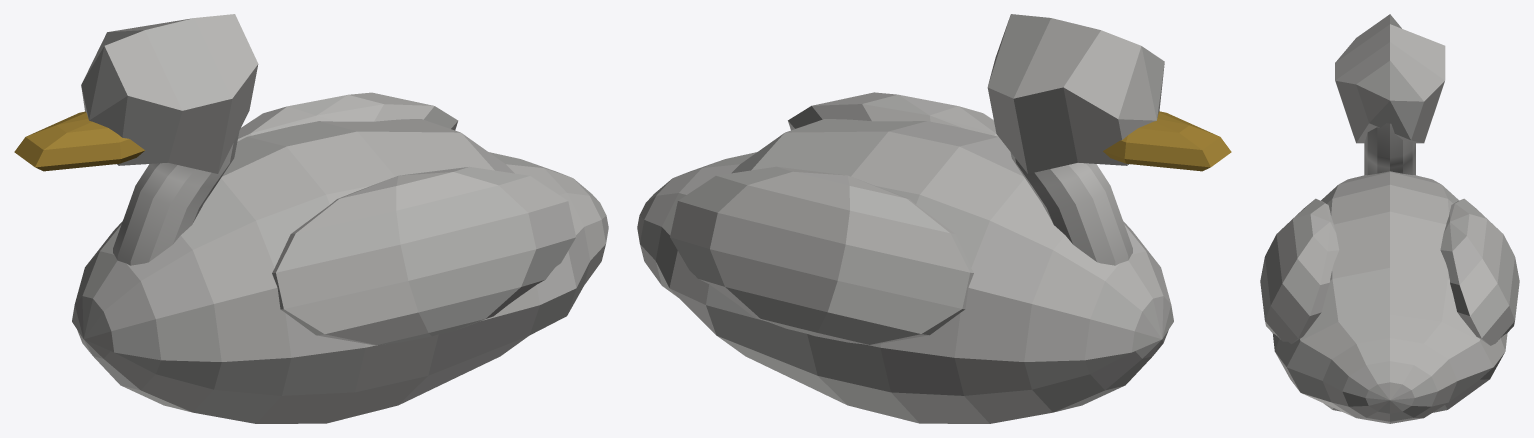
Rendered from Duck.fbx.
3 renders of one model, left to right at view 1: azimuth 30°, elevation 25°; view 2: azimuth 150°, elevation 25°; view 3: azimuth 270°, elevation 25°, orthographic. The views are drawn at different scales.
Visible parts, largest first — view 1: pSphere6; view 2: pSphere6; view 3: pSphere6.
Part boxes in pixels (x1,y1,x2,y2): pSphere6: (14,14,608,423); pSphere6: (637,14,1231,423); pSphere6: (1260,14,1519,423).
Bounding box in the file's own units: 4.05 × 2.82 × 2.17.
